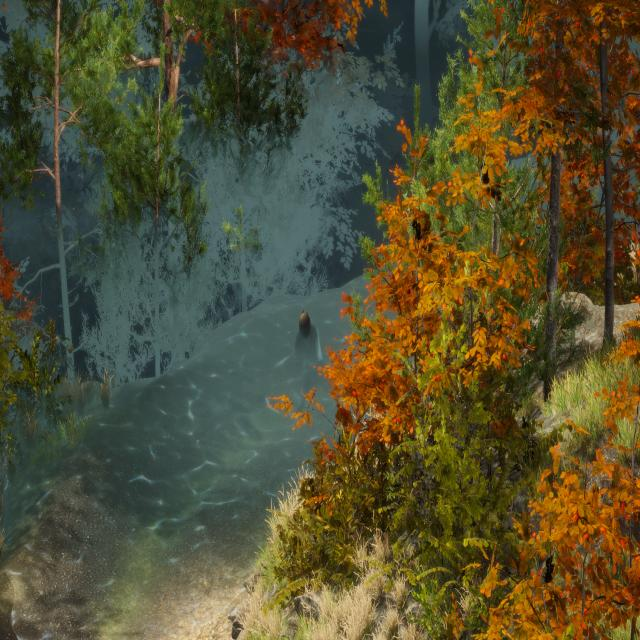Human: (270, 288, 326, 416)
